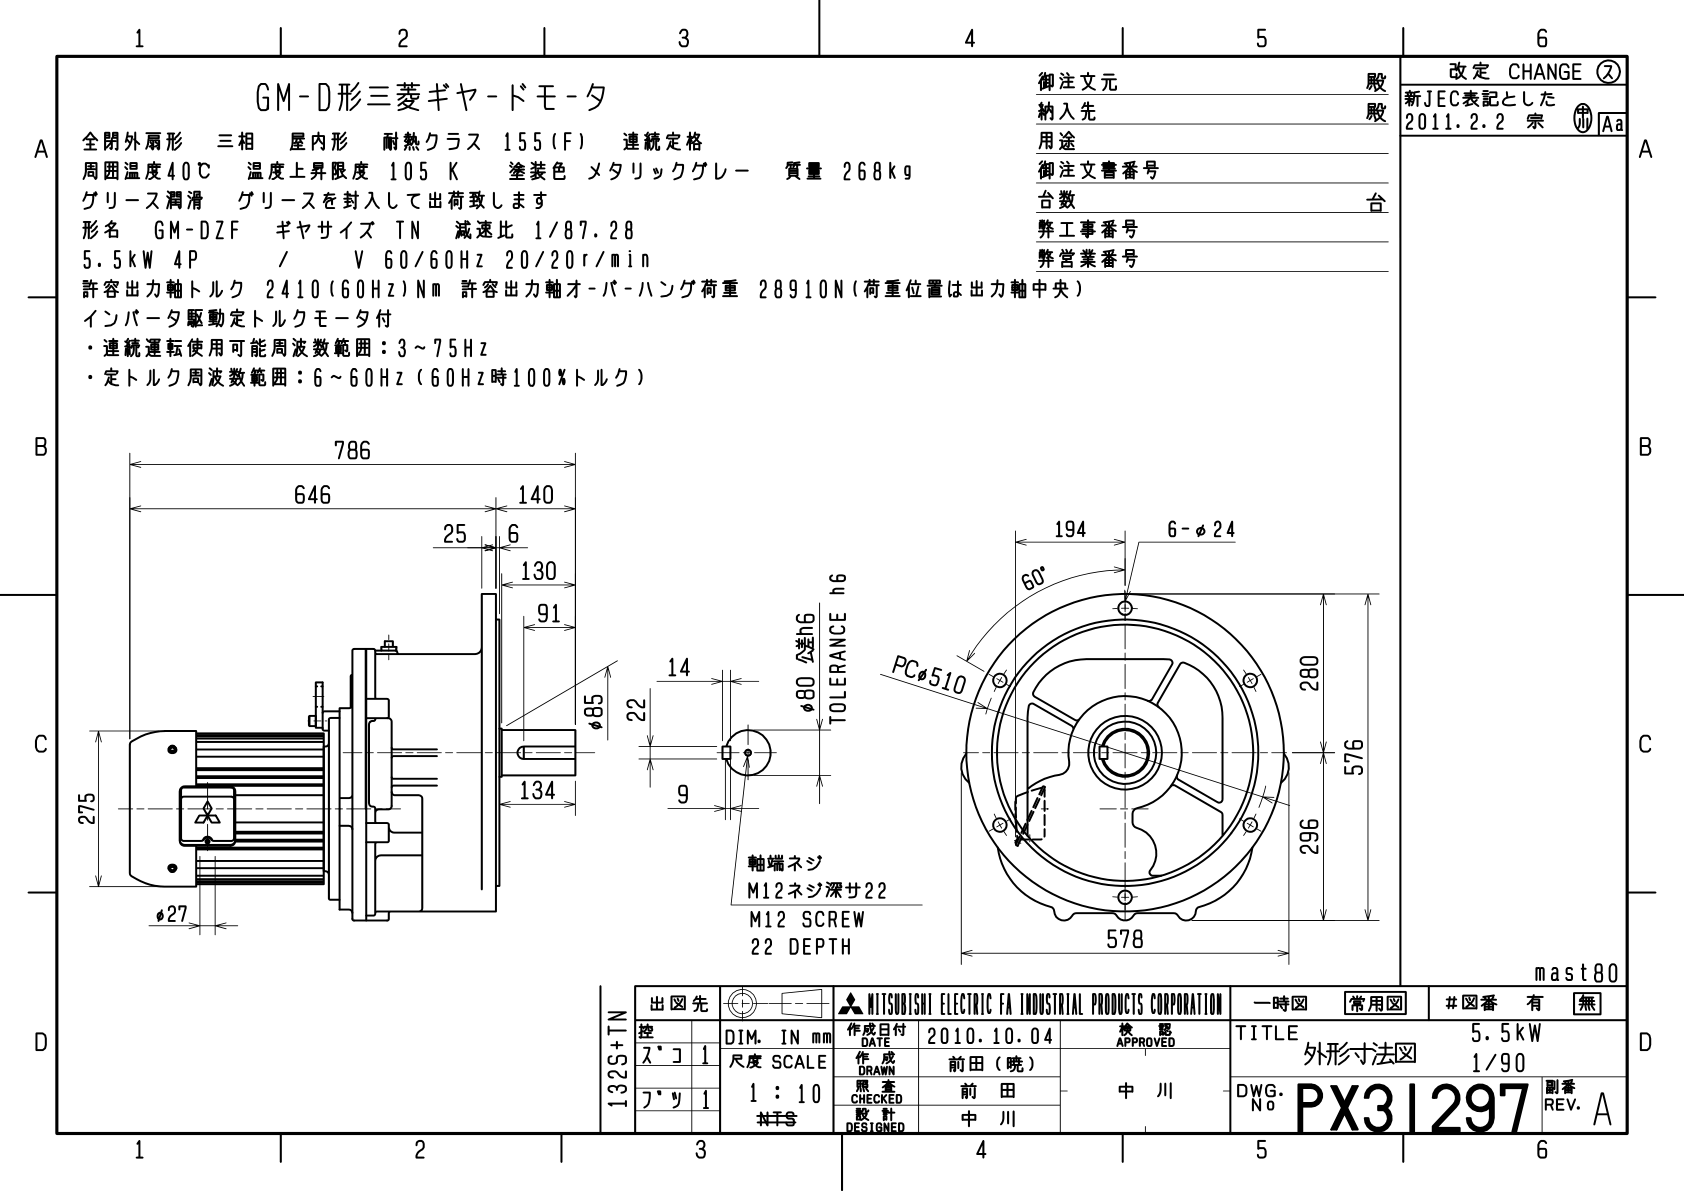GM_D_インバータ屋内_三相_フランジ: (1, 1, 1672, 1179)
